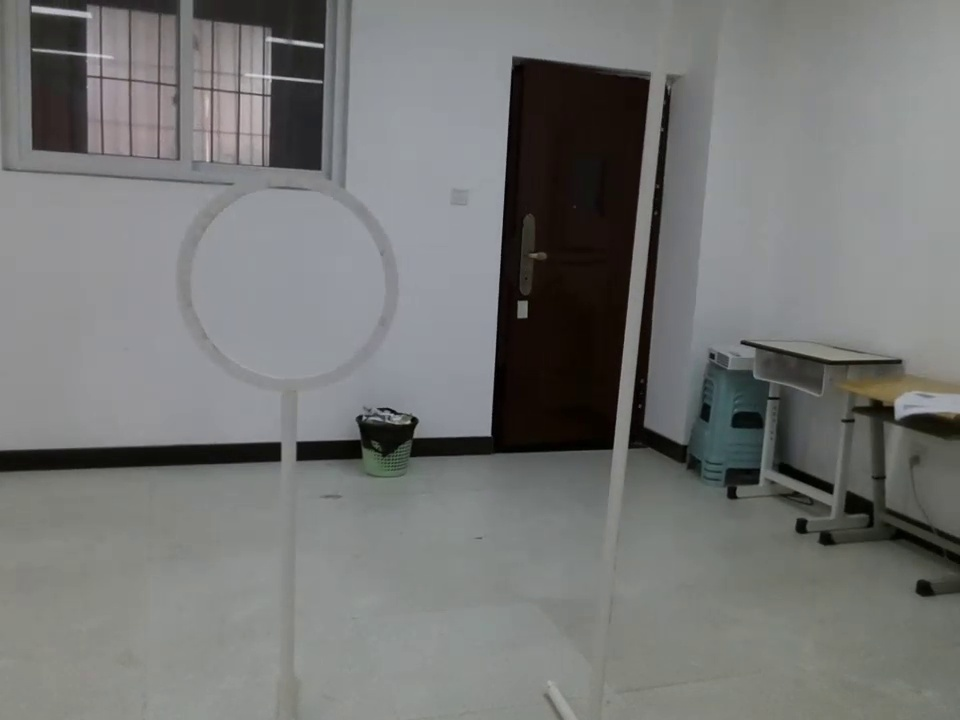gan: (585, 56, 681, 687)
quan: (160, 167, 402, 416)
